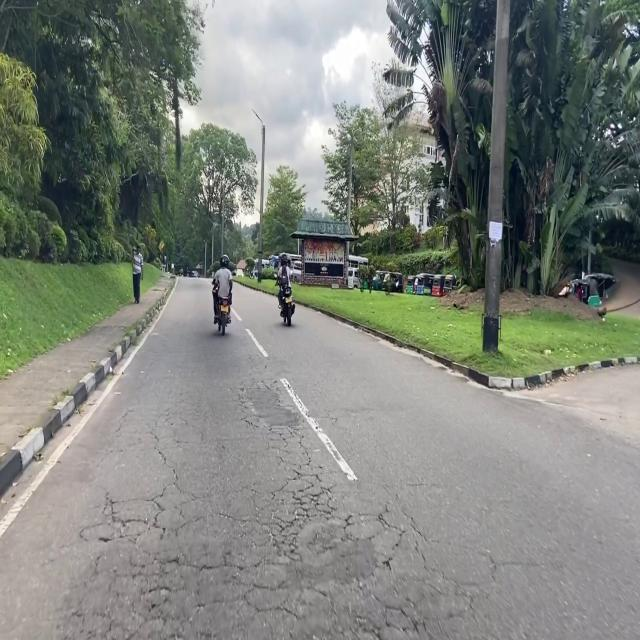bus: (349, 255, 368, 267), (269, 254, 279, 268)
motorcycle: (281, 286, 295, 326), (218, 299, 230, 335)
person: (212, 254, 232, 323), (277, 252, 290, 315), (132, 243, 143, 303)
three wheeler: (570, 279, 600, 308), (383, 273, 403, 293), (416, 274, 434, 295), (432, 275, 444, 297), (373, 270, 385, 290), (444, 275, 456, 294), (406, 276, 415, 293), (413, 276, 419, 295)
van: (349, 267, 360, 287), (292, 262, 301, 282)
